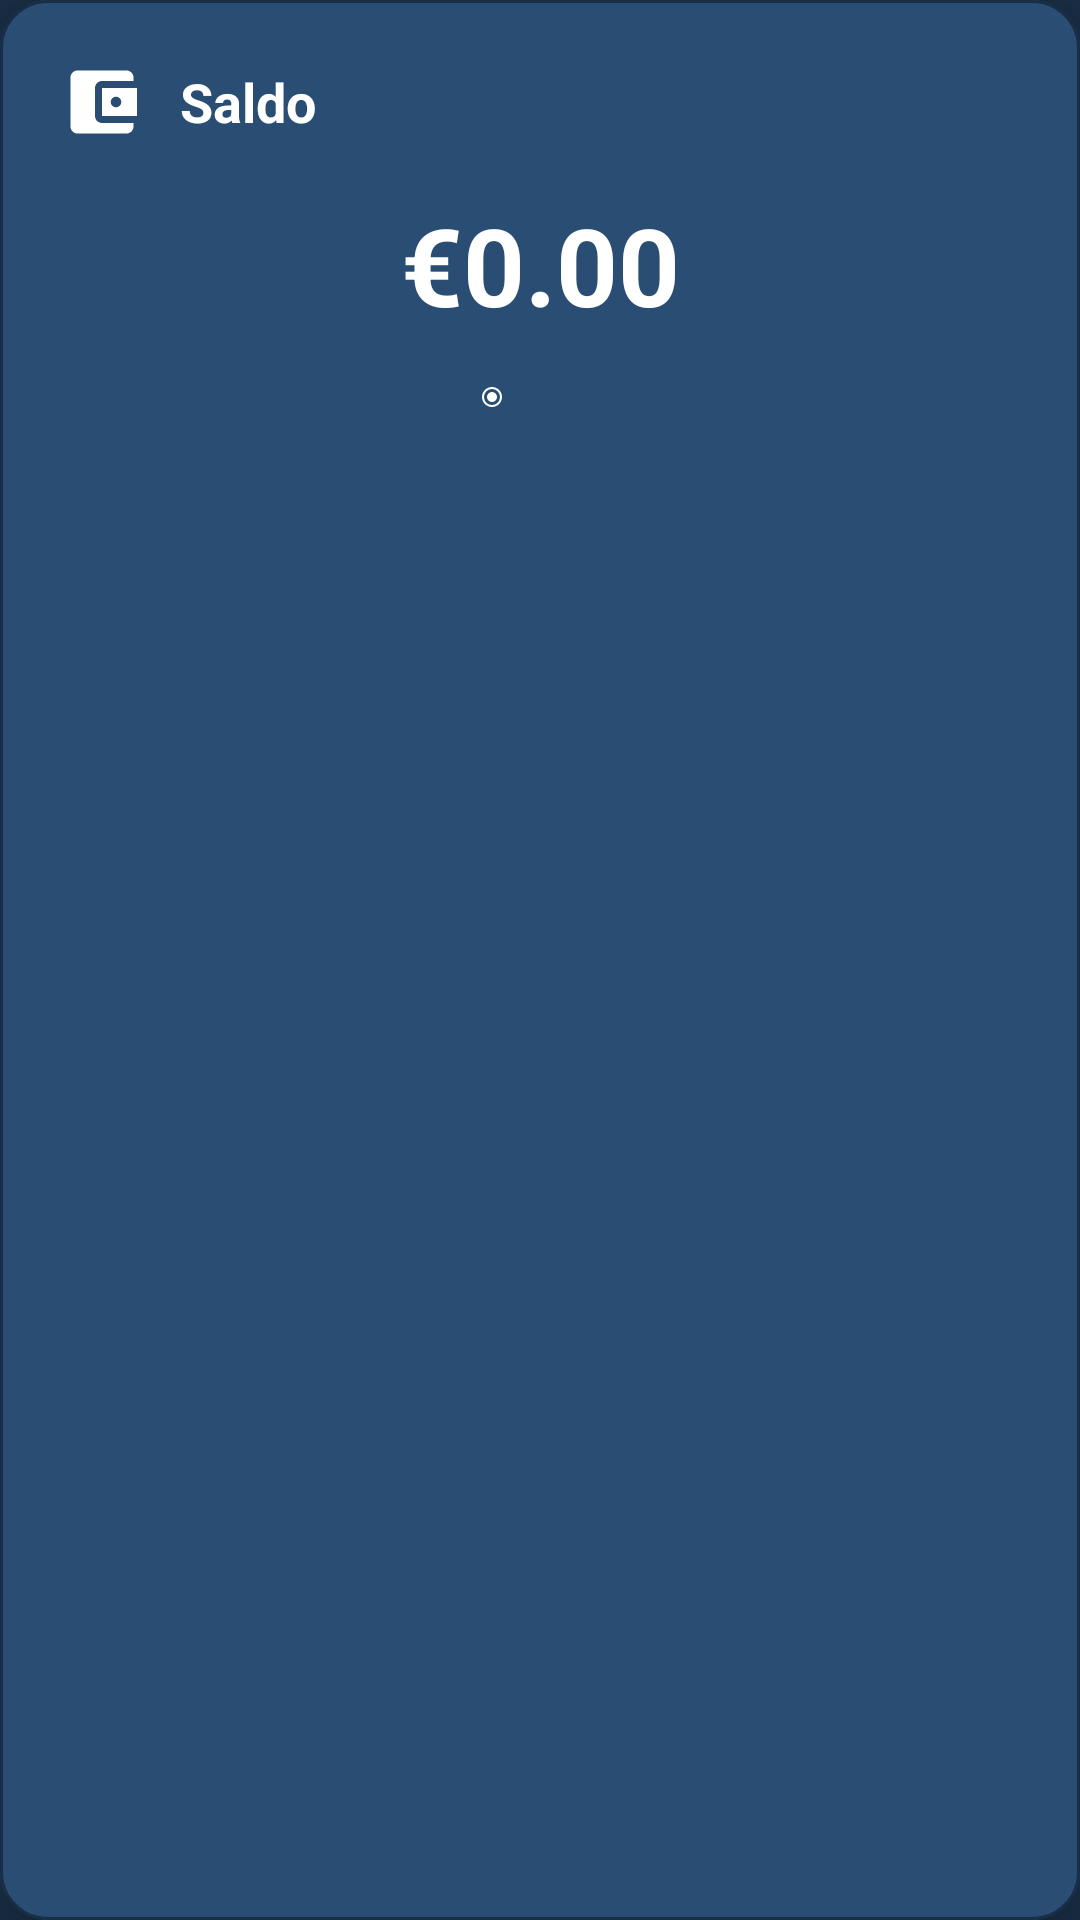

Screen size 1080*1920. Icon name, then its box in pixels as (x1, y1, x2, y2):
wallet modern: (70, 70, 137, 134)
